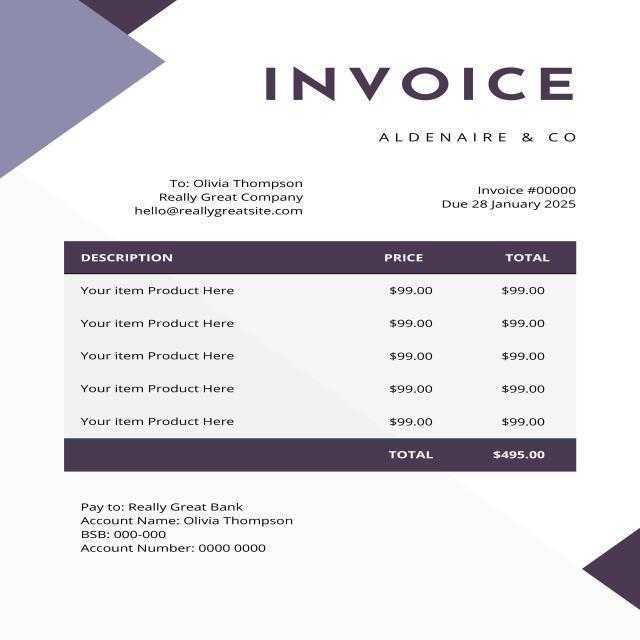paragraph: (250, 58, 588, 106), (76, 502, 312, 564), (125, 176, 321, 220), (375, 124, 595, 156), (428, 173, 590, 215), (380, 446, 572, 470)
table: (63, 244, 577, 436)
